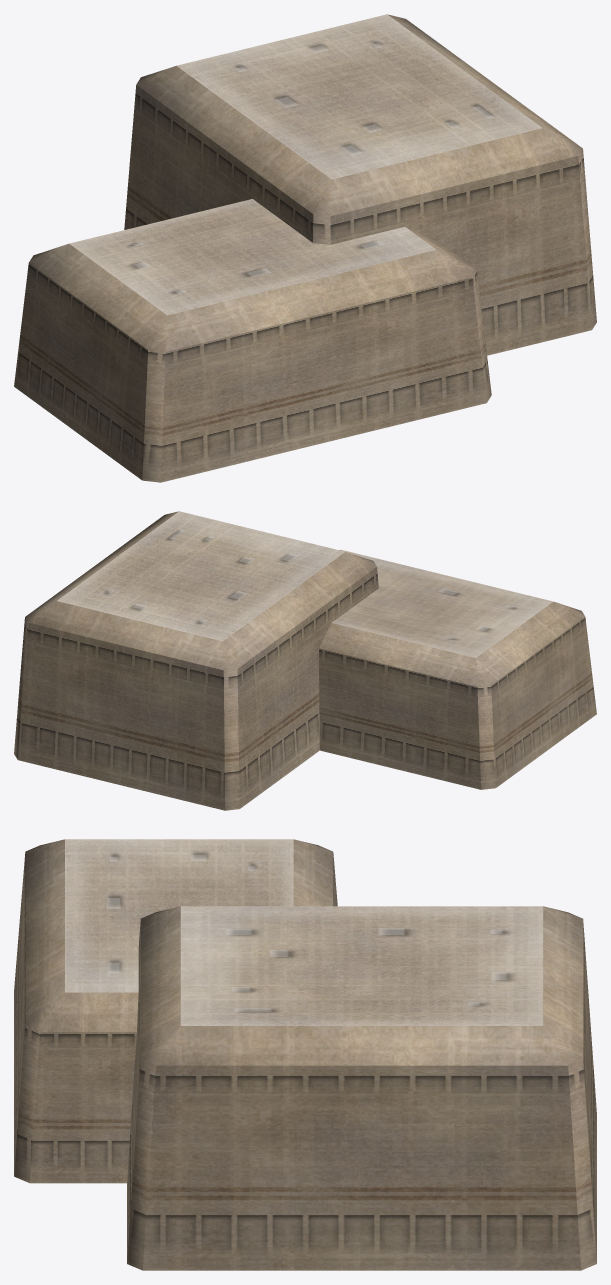
The model's file is Dsrt00.fbx.
The picture shows the model from 3 angles, top to bottom: view 1: azimuth 30°, elevation 25°; view 2: azimuth 150°, elevation 25°; view 3: azimuth 270°, elevation 25°; orthographic projection. The views are drawn at different scales.
Visible parts, largest first — view 1: Dsrt00; view 2: Dsrt00; view 3: Dsrt00.
Part boxes in pixels (left/top/right/bottom): Dsrt00: left=14, top=14, right=596, bottom=482; Dsrt00: left=14, top=511, right=596, bottom=810; Dsrt00: left=14, top=839, right=596, bottom=1270.
Bounding box in the file's own units: 259 × 94.14 × 223.
